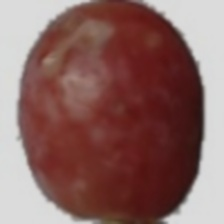grapes: (18, 6, 188, 207)
